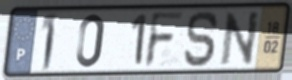0: (75, 12, 106, 70)
1: (40, 11, 60, 72), (130, 12, 148, 68)
F: (142, 9, 187, 70)
N: (219, 9, 262, 68)
S: (182, 10, 221, 69)
